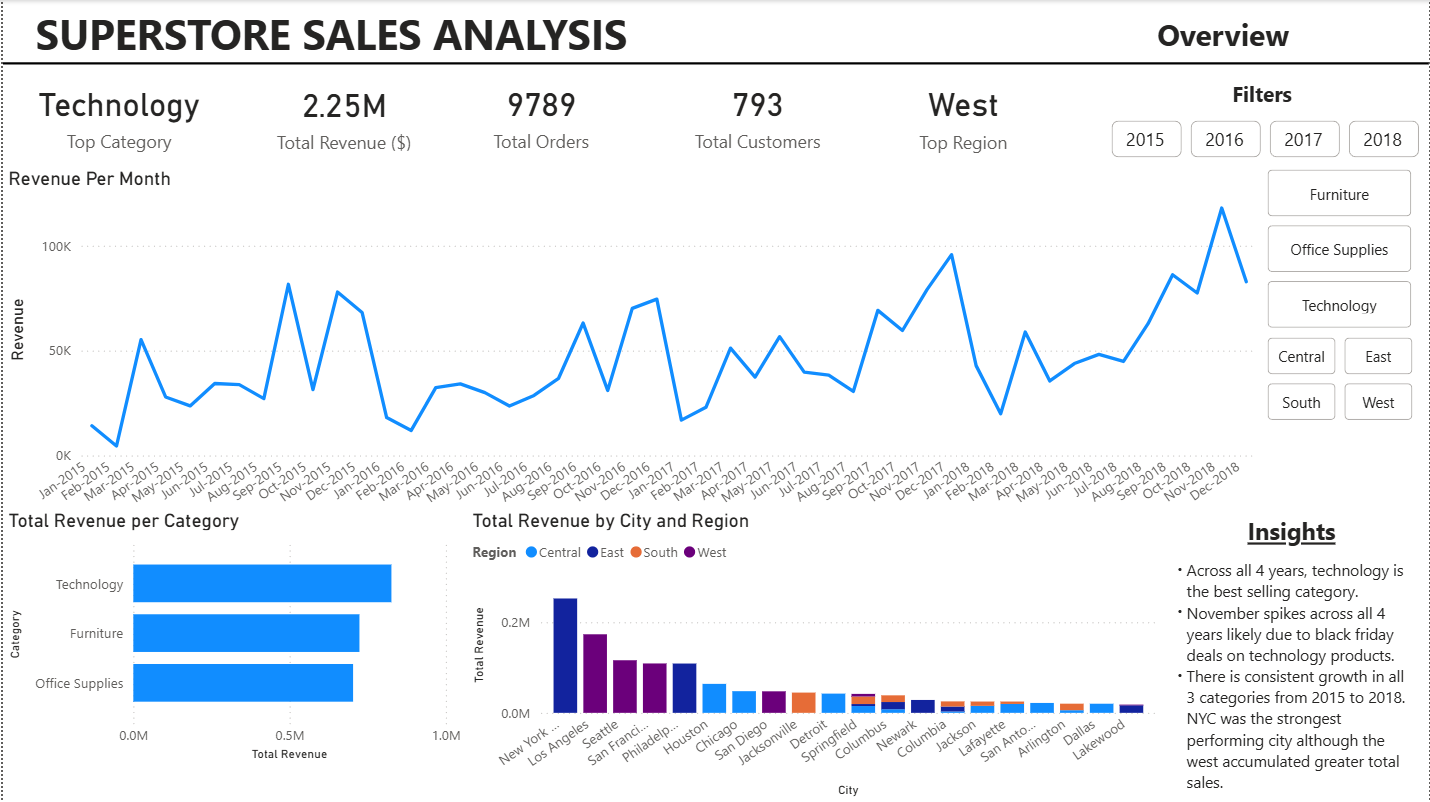

Layout of this report page (visuals, bound fields, positions):
{"tool":"powerbi","page":{"name":"Overview","canvas":[1280,720],"ordinal":0},"visuals":[{"type":"card","fields":{"Values":["public orders.Total Sales"]},"box":[239.7,66.4,132.9,73.6],"z":0},{"type":"card","fields":{"Values":["public order_items.Total Orders"]},"box":[428,62,110,81],"z":1000},{"type":"card","fields":{"Values":["public customers.Total Customers"]},"box":[615,65,125,76],"z":2000},{"type":"lineChart","title":"Revenue Per Month","fields":{"Y":["public orders.Total Sales"],"Category":["public orders.MONTH YEAR"]},"box":[0,150,1130,337],"z":3000},{"type":"clusteredBarChart","title":"Total Revenue per Category","fields":{"Category":["public product.category"],"Y":["public orders.Total Sales"]},"box":[0,457,416.6,230.7],"z":4000},{"type":"columnChart","title":"Total Revenue by City and Region","fields":{"Y":["public orders.Total Sales"],"Category":["public orders.city"],"Series":["public orders.region"]},"box":[417,457,623,263],"z":5000},{"type":"advancedSlicerVisual","fields":{"Values":["public orders.Order Year"]},"box":[990.2,103.2,290,44],"z":6000},{"type":"textbox","box":[24.2,0,544.9,98.8],"z":7000},{"type":"shape","box":[0,40,1280,33],"z":8000},{"type":"textbox","box":[1095.3,66.4,70,36.8],"z":9000},{"type":"advancedSlicerVisual","fields":{"Values":["public orders.region"]},"box":[1130,298,140,84],"z":10000},{"type":"advancedSlicerVisual","fields":{"Values":["public product.category"]},"box":[1130.3,147.2,139.2,154.4],"z":11000},{"type":"card","fields":{"Values":["public order_items.Top Region"]},"box":[798,61,128,84],"z":12000},{"type":"card","fields":{"Values":["public orders.Top Category"]},"box":[11,62,187,81],"z":13000},{"type":"textbox","box":[1040,497,233,223],"z":14000},{"type":"textbox","box":[1100,457,114,47],"z":15000},{"type":"textbox","box":[910.1,7.2,369.9,49.4],"z":16000}]}

Visuals, with their boxes in screenshot pixels (x1, y1, x2, y2), scaled from the page's 1280x720 canvas onto the 1430x802 screenshot:
card - public orders.Total Sales: bbox(268, 74, 416, 156)
card - public order_items.Total Orders: bbox(478, 69, 601, 159)
card - public customers.Total Customers: bbox(687, 72, 827, 157)
"Revenue Per Month" lineChart: bbox(0, 167, 1262, 542)
"Total Revenue per Category" clusteredBarChart: bbox(0, 509, 465, 766)
"Total Revenue by City and Region" columnChart: bbox(466, 509, 1162, 801)
advancedSlicerVisual - public orders.Order Year: bbox(1106, 115, 1429, 164)
textbox: bbox(27, 0, 636, 110)
shape: bbox(0, 45, 1429, 81)
textbox: bbox(1224, 74, 1302, 115)
advancedSlicerVisual - public orders.region: bbox(1262, 332, 1419, 426)
advancedSlicerVisual - public product.category: bbox(1263, 164, 1418, 336)
card - public order_items.Top Region: bbox(892, 68, 1035, 162)
card - public orders.Top Category: bbox(12, 69, 221, 159)
textbox: bbox(1162, 554, 1422, 801)
textbox: bbox(1229, 509, 1356, 561)
textbox: bbox(1017, 8, 1429, 63)
